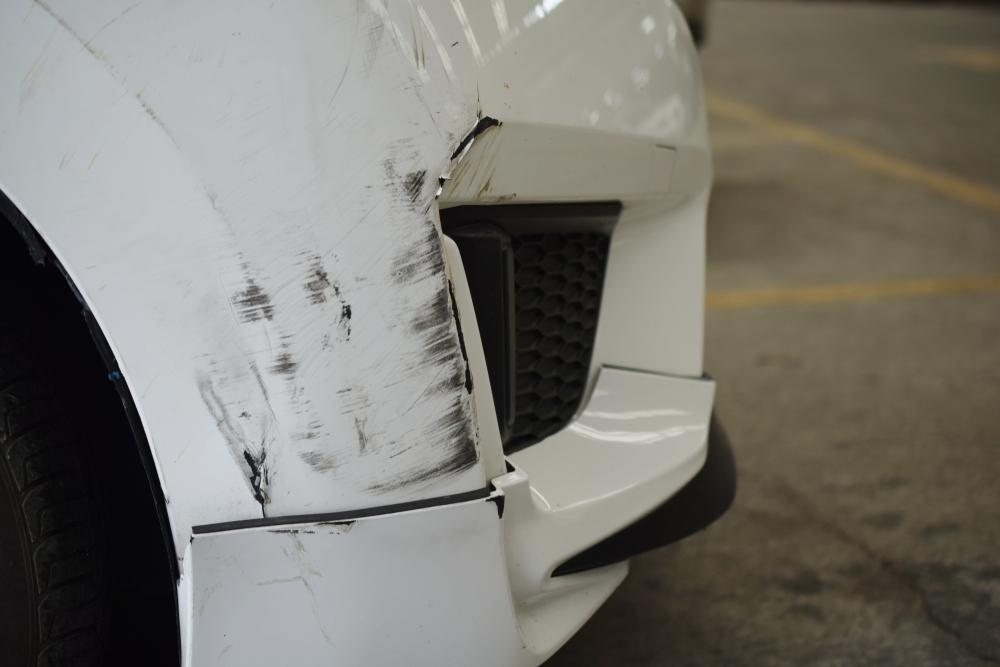scratch: (172, 108, 530, 507)
